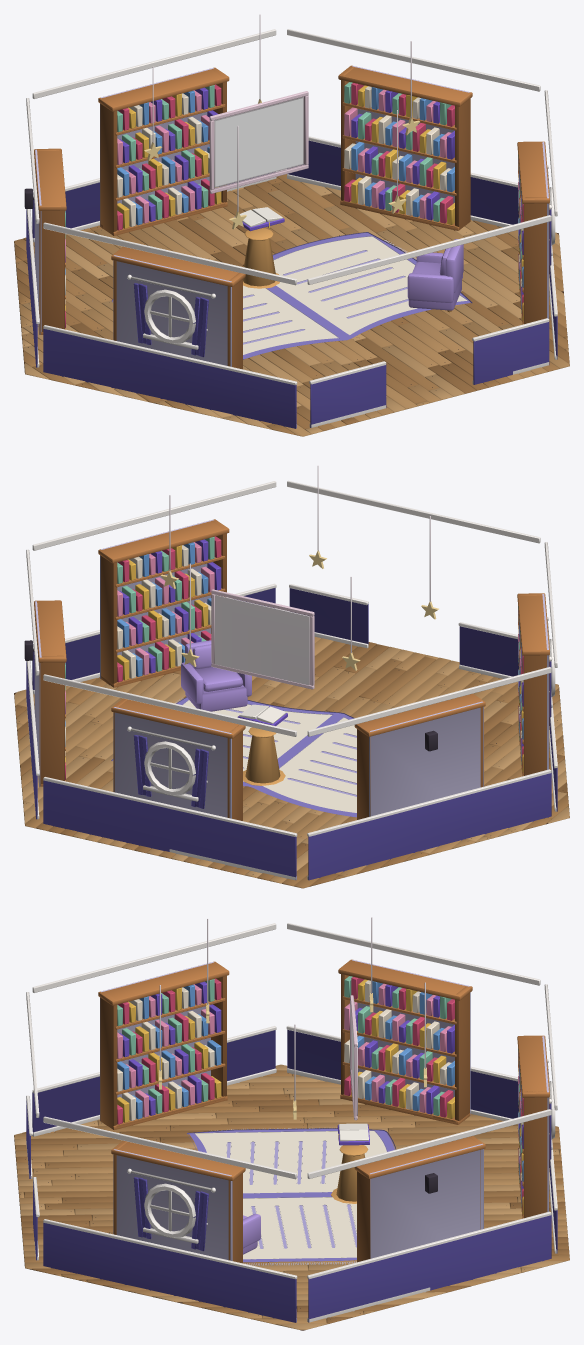
Rendered from zon_room_poems.glb.
The picture shows the model from 3 angles, top to bottom: view 1: azimuth 30°, elevation 25°; view 2: azimuth 150°, elevation 25°; view 3: azimuth 270°, elevation 25°; orthographic projection.
Visible parts, largest first — view 1: SM_zon_room_poems_room_floor_plaster_xm1_zm1, SM_zon_room_poems_room_floor_wood_xm1_zm1, SM_zon_room_poems_room_rug_fabric_xm1_zm1, SCREEN_fur_screen_poems__0, SM_zon_room_poems_room_floor_fabric_x0_zm1, ANIM_fur_bookstand_poems_book__0; view 2: SM_zon_room_poems_room_floor_plaster_xm1_zm1, SM_zon_room_poems_room_floor_wood_xm1_zm1, SM_zon_room_poems_room_rug_fabric_xm1_zm1, SM_zon_room_poems_room_floor_fabric_x0_zm1, ANIM_fur_bookstand_poems_book__0; view 3: SM_zon_room_poems_room_floor_plaster_xm1_zm1, SM_zon_room_poems_room_floor_wood_xm1_zm1, SM_zon_room_poems_room_rug_fabric_xm1_zm1, ANIM_fur_bookstand_poems_book__0, SM_zon_room_poems_room_floor_fabric_x0_zm1.
Boxes of the visible parts, box(x1,y1,x2,y2) form: SM_zon_room_poems_room_floor_plaster_xm1_zm1: box(24, 14, 557, 428); SM_zon_room_poems_room_floor_wood_xm1_zm1: box(14, 65, 569, 436); SM_zon_room_poems_room_rug_fabric_xm1_zm1: box(111, 232, 472, 359); SCREEN_fur_screen_poems__0: box(215, 98, 302, 186); SM_zon_room_poems_room_floor_fabric_x0_zm1: box(407, 239, 463, 310); ANIM_fur_bookstand_poems_book__0: box(234, 207, 284, 231); SM_zon_room_poems_room_floor_plaster_xm1_zm1: box(24, 465, 557, 880); SM_zon_room_poems_room_floor_wood_xm1_zm1: box(14, 519, 569, 888); SM_zon_room_poems_room_rug_fabric_xm1_zm1: box(111, 697, 356, 817); SM_zon_room_poems_room_floor_fabric_x0_zm1: box(181, 640, 251, 711); ANIM_fur_bookstand_poems_book__0: box(237, 704, 287, 725); SM_zon_room_poems_room_floor_plaster_xm1_zm1: box(26, 917, 557, 1322); SM_zon_room_poems_room_floor_wood_xm1_zm1: box(14, 959, 569, 1330); SM_zon_room_poems_room_rug_fabric_xm1_zm1: box(187, 1127, 396, 1265); ANIM_fur_bookstand_poems_book__0: box(337, 1123, 369, 1145); SM_zon_room_poems_room_floor_fabric_x0_zm1: box(243, 1213, 260, 1254).
Bounding box in the file's own units: 12.19 × 4.99 × 10.77.
